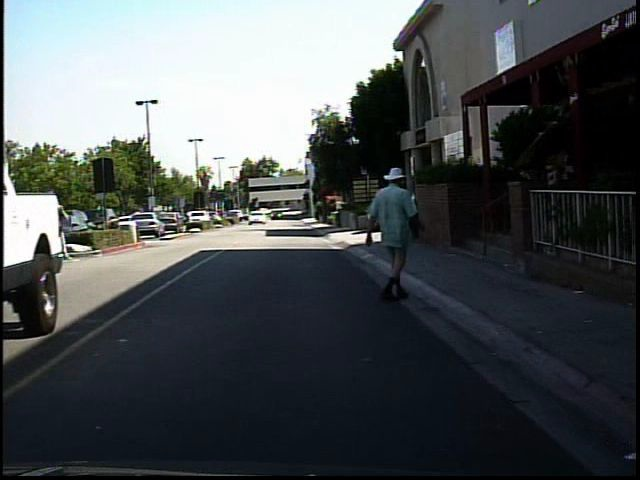person: (364, 156, 427, 307), (47, 196, 76, 267), (181, 204, 196, 229)
